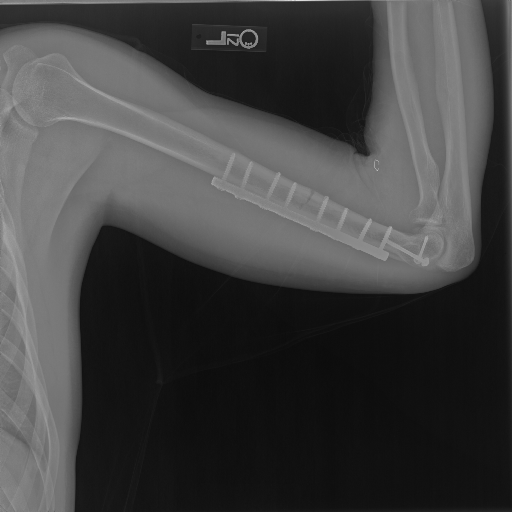implant: (212, 143, 426, 265)
